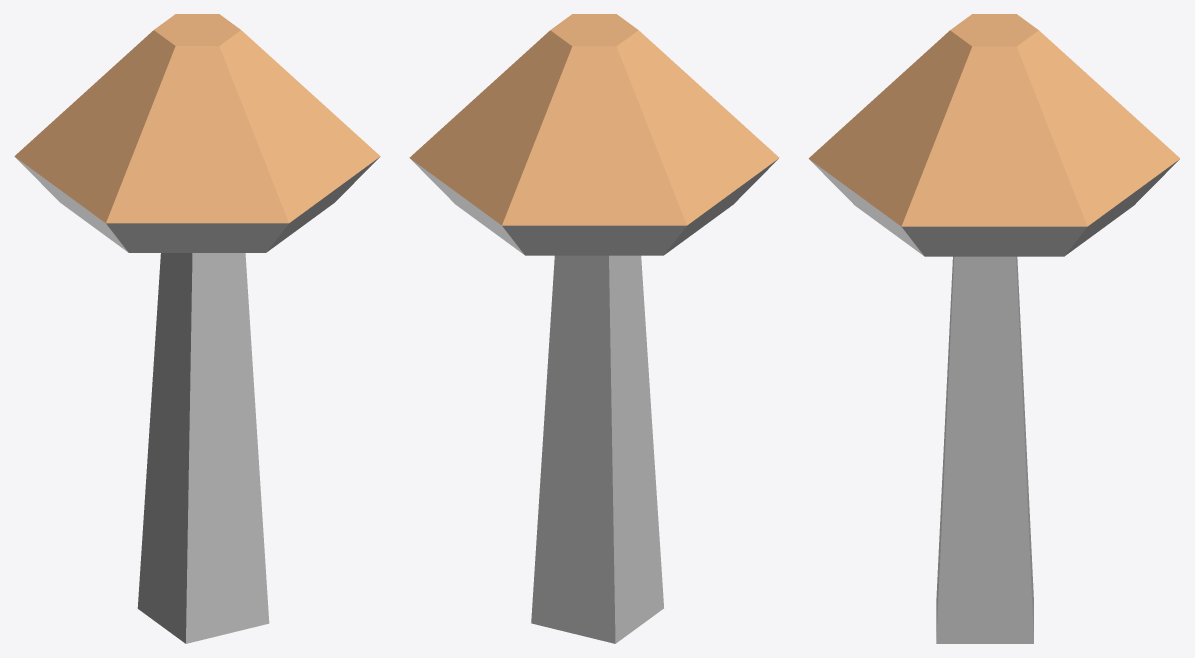
File: giant-mushroom.glb
3 views of the same model, side by side, from view 1: azimuth 30°, elevation 25°; view 2: azimuth 150°, elevation 25°; view 3: azimuth 270°, elevation 25° (orthographic).
Parts seen in each view (by area): view 1: mushroom_tanTall; view 2: mushroom_tanTall; view 3: mushroom_tanTall.
Boxes of the visible parts, x1,y1,x2,y2 form: mushroom_tanTall: (14,14,380,643); mushroom_tanTall: (409,14,779,643); mushroom_tanTall: (808,14,1180,643).
Size of the model in its own units: 1.24 by 2.5 by 1.43.
